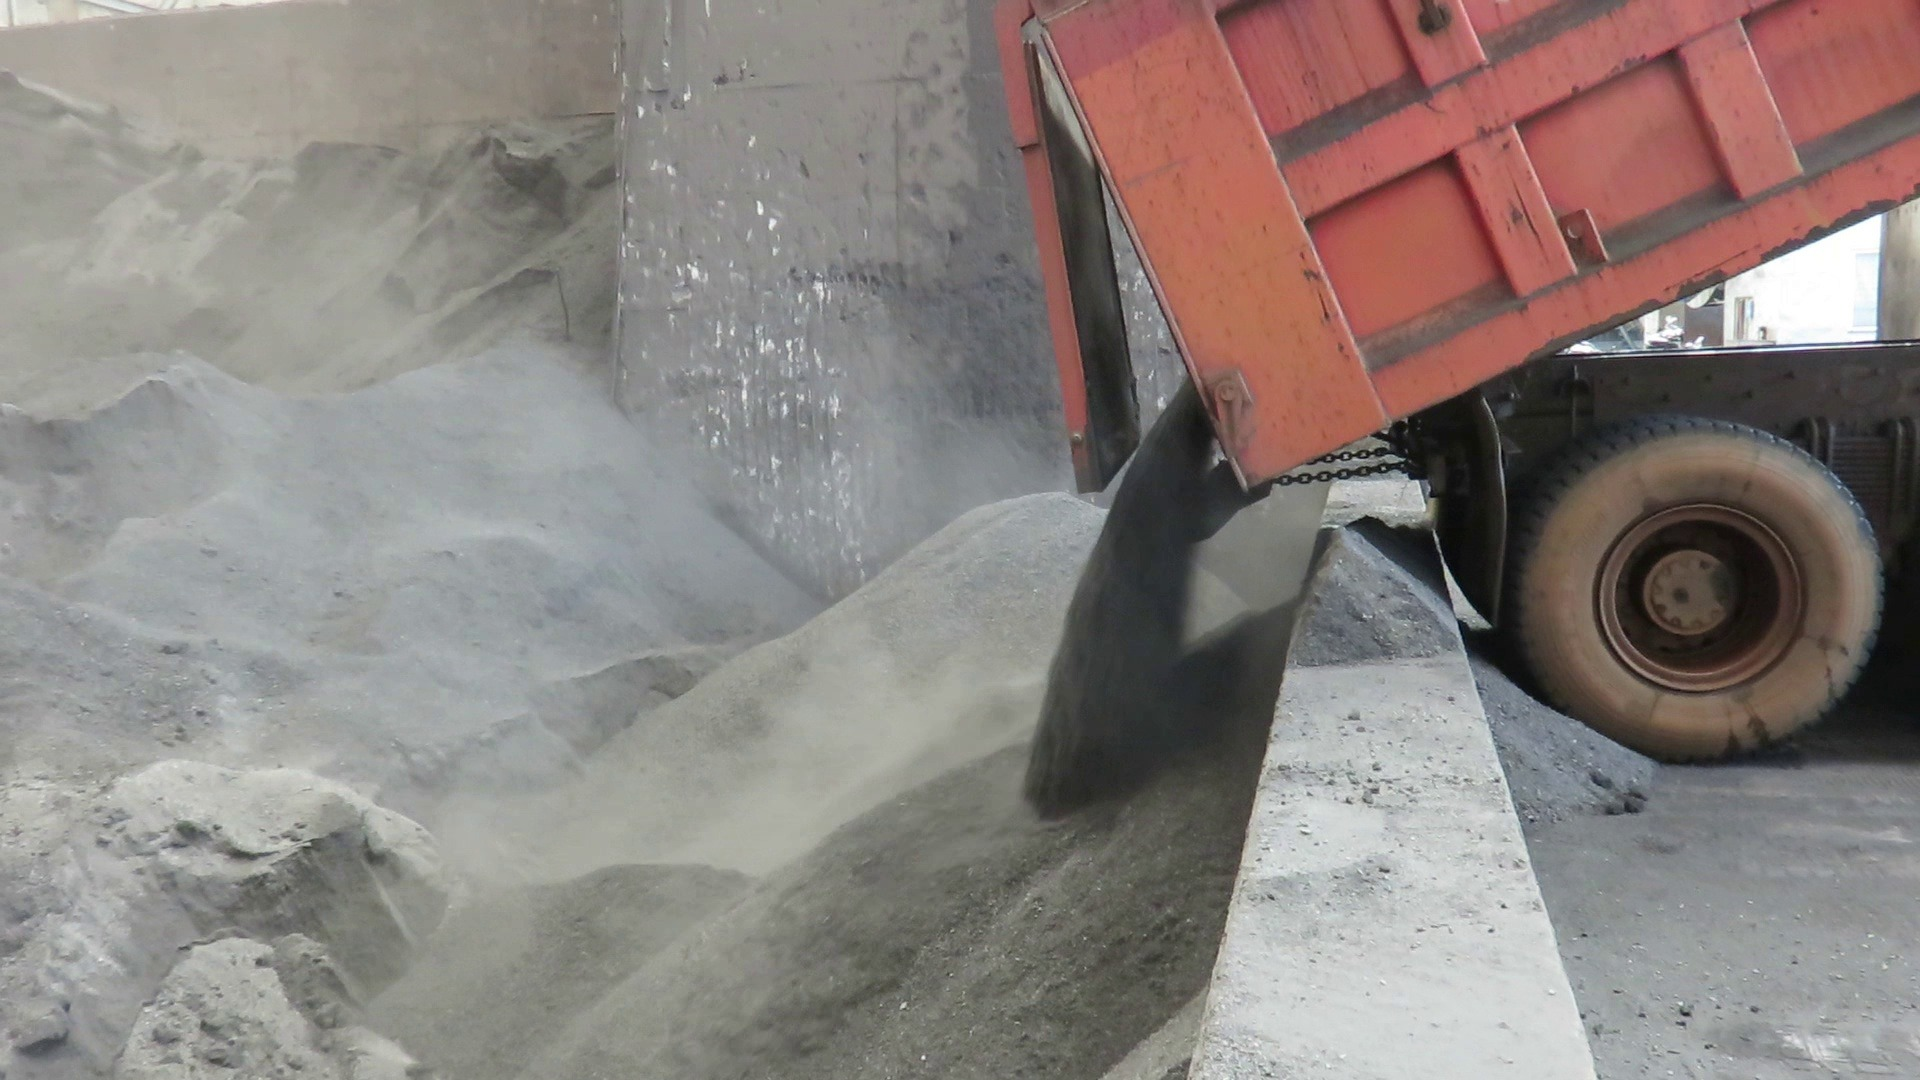dust: (16, 40, 1034, 800)
truck: (975, 0, 1920, 770)
